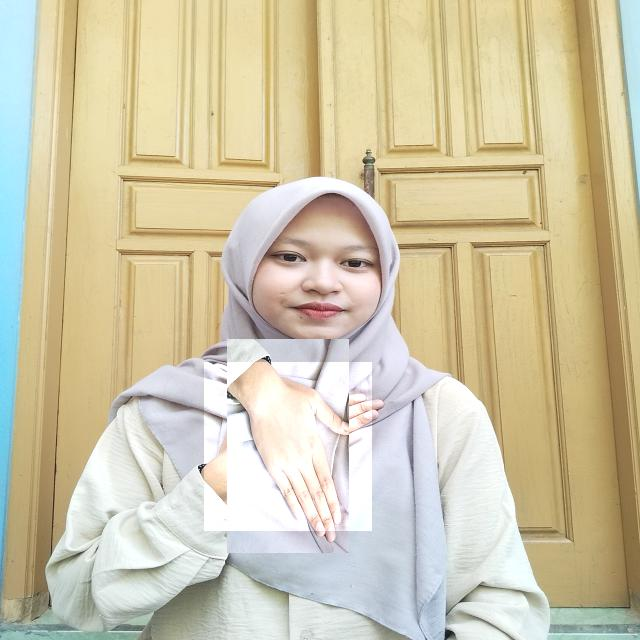tolong: (204, 362, 372, 531)
